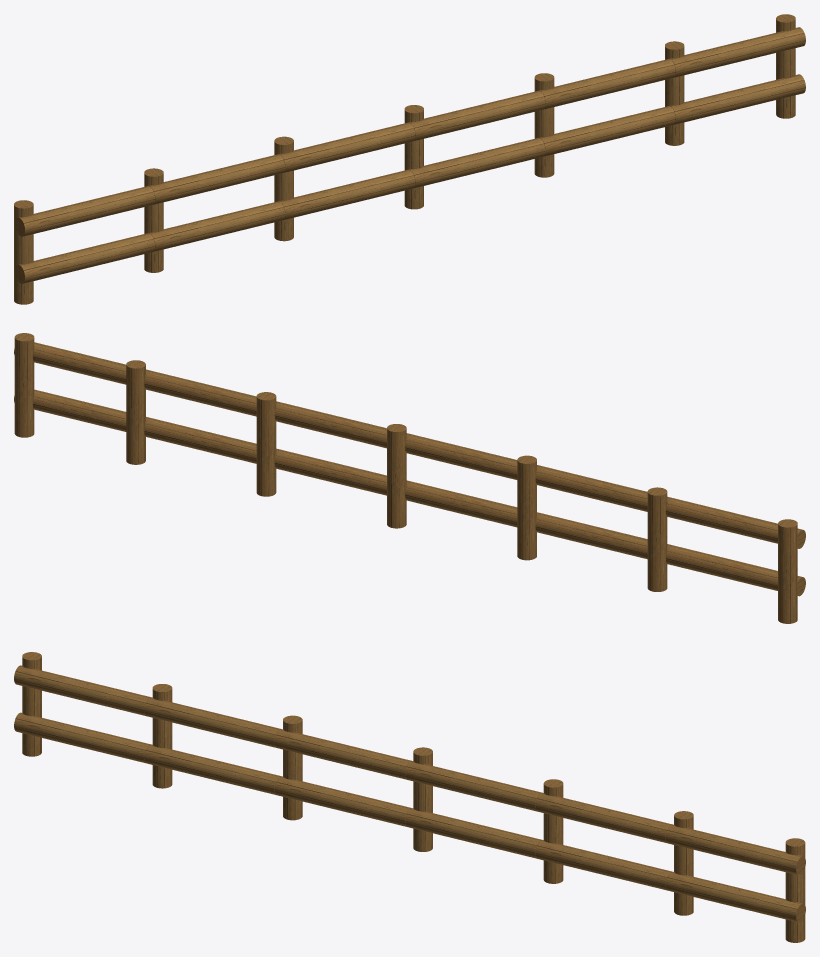
The model's file is VallaMadera.glb.
The picture shows the model from 3 angles, top to bottom: view 1: azimuth 30°, elevation 25°; view 2: azimuth 150°, elevation 25°; view 3: azimuth 330°, elevation 25°; orthographic projection.
Parts seen in each view (by area): view 1: Cylinder.001; view 2: Cylinder.001; view 3: Cylinder.001.
Part boxes in pixels (bbox=[...]): Cylinder.001: bbox=[14, 14, 805, 304]; Cylinder.001: bbox=[14, 333, 805, 623]; Cylinder.001: bbox=[14, 652, 805, 942].
Bounding box in the file's own units: 13.5 × 1.59 × 0.4374.
1 material, 1 textured.
